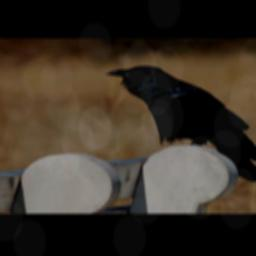Crow: (105, 65, 256, 183)
